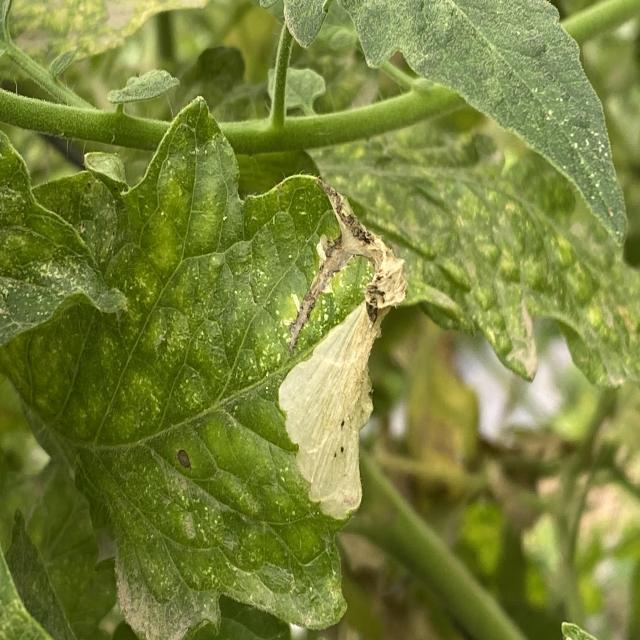Tuta absoluta: (256, 179, 424, 524)
